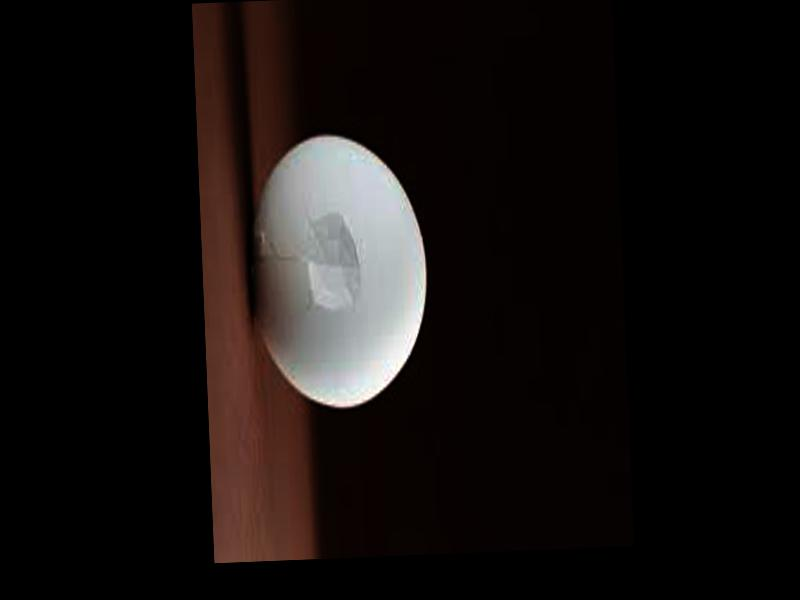Eggs: (244, 134, 432, 411)
